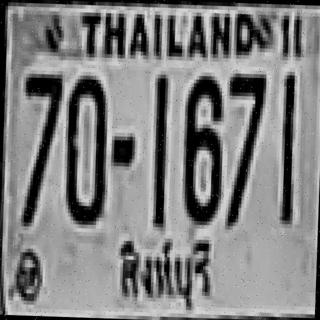N00: (62, 71, 106, 221)
N01: (150, 72, 168, 218), (278, 75, 296, 220), (278, 73, 296, 211), (150, 74, 166, 212)
N06: (180, 72, 224, 222)
N07: (18, 72, 62, 222), (222, 68, 264, 225), (20, 70, 62, 186), (20, 70, 62, 172)
P62: (100, 228, 224, 318)
